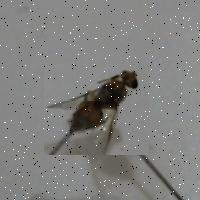Oriental-fruit-fly: (44, 63, 149, 155)
